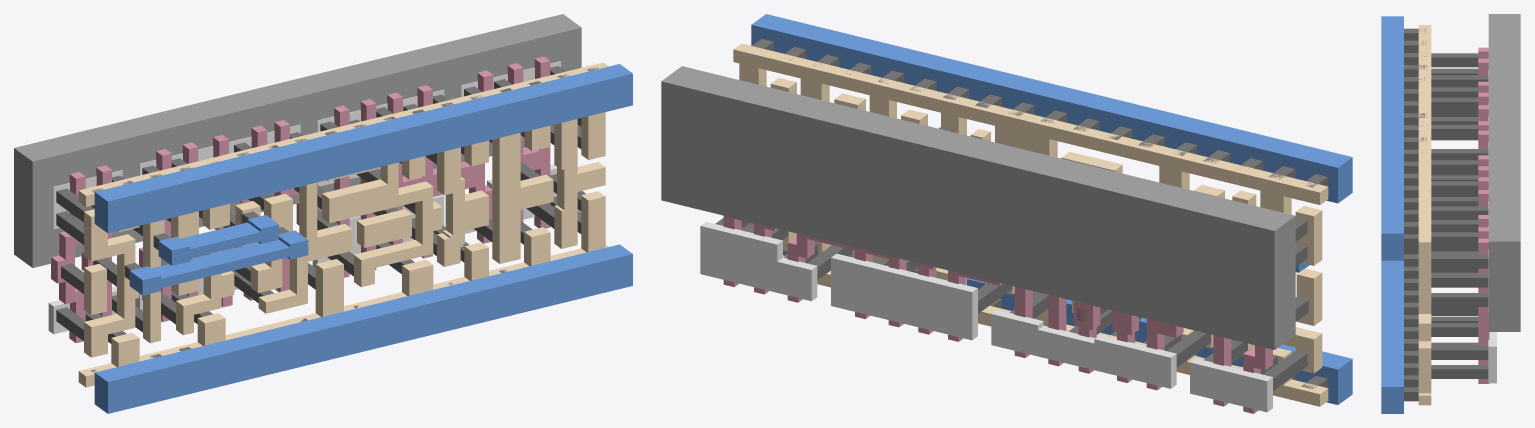
File: sky130_fd_sc_hd__dlrbn_2.gds.gltf
The picture shows the model from 3 angles, left to right: view 1: azimuth 30°, elevation 25°; view 2: azimuth 150°, elevation 25°; view 3: azimuth 270°, elevation 25°; orthographic projection. The views are drawn at different scales.
Visible parts, largest first — view 1: sky130_fd_sc_hd__dlrbn_2_met1, sky130_fd_sc_hd__dlrbn_2_li1, sky130_fd_sc_hd__dlrbn_2_nwell, sky130_fd_sc_hd__dlrbn_2_poly, sky130_fd_sc_hd__dlrbn_2_licon, sky130_fd_sc_hd__dlrbn_2_diff, sky130_fd_sc_hd__dlrbn_2_mcon; view 2: sky130_fd_sc_hd__dlrbn_2_nwell, sky130_fd_sc_hd__dlrbn_2_li1, sky130_fd_sc_hd__dlrbn_2_diff, sky130_fd_sc_hd__dlrbn_2_met1, sky130_fd_sc_hd__dlrbn_2_poly, sky130_fd_sc_hd__dlrbn_2_licon, sky130_fd_sc_hd__dlrbn_2_mcon; view 3: sky130_fd_sc_hd__dlrbn_2_licon, sky130_fd_sc_hd__dlrbn_2_nwell, sky130_fd_sc_hd__dlrbn_2_met1, sky130_fd_sc_hd__dlrbn_2_mcon, sky130_fd_sc_hd__dlrbn_2_li1, sky130_fd_sc_hd__dlrbn_2_poly, sky130_fd_sc_hd__dlrbn_2_diff.
Part boxes in pixels (<box>): sky130_fd_sc_hd__dlrbn_2_met1: <box>94,64,632,413</box>; sky130_fd_sc_hd__dlrbn_2_li1: <box>78,62,608,387</box>; sky130_fd_sc_hd__dlrbn_2_nwell: <box>14,14,581,267</box>; sky130_fd_sc_hd__dlrbn_2_poly: <box>51,56,550,343</box>; sky130_fd_sc_hd__dlrbn_2_licon: <box>56,66,585,343</box>; sky130_fd_sc_hd__dlrbn_2_diff: <box>48,61,560,334</box>; sky130_fd_sc_hd__dlrbn_2_mcon: <box>91,67,598,373</box>; sky130_fd_sc_hd__dlrbn_2_nwell: <box>661,66,1295,349</box>; sky130_fd_sc_hd__dlrbn_2_li1: <box>733,43,1328,406</box>; sky130_fd_sc_hd__dlrbn_2_diff: <box>700,221,1272,412</box>; sky130_fd_sc_hd__dlrbn_2_met1: <box>751,14,1352,404</box>; sky130_fd_sc_hd__dlrbn_2_poly: <box>723,216,1272,413</box>; sky130_fd_sc_hd__dlrbn_2_licon: <box>715,81,1308,390</box>; sky130_fd_sc_hd__dlrbn_2_mcon: <box>752,39,1327,388</box>; sky130_fd_sc_hd__dlrbn_2_licon: <box>1431,53,1488,378</box>; sky130_fd_sc_hd__dlrbn_2_nwell: <box>1488,14,1520,331</box>; sky130_fd_sc_hd__dlrbn_2_met1: <box>1381,16,1403,413</box>; sky130_fd_sc_hd__dlrbn_2_mcon: <box>1404,28,1426,401</box>; sky130_fd_sc_hd__dlrbn_2_li1: <box>1418,25,1431,405</box>; sky130_fd_sc_hd__dlrbn_2_poly: <box>1478,47,1489,383</box>; sky130_fd_sc_hd__dlrbn_2_diff: <box>1488,70,1496,383</box>.
Size of the model in its own units: 8.66 by 3.2 by 2.24.
